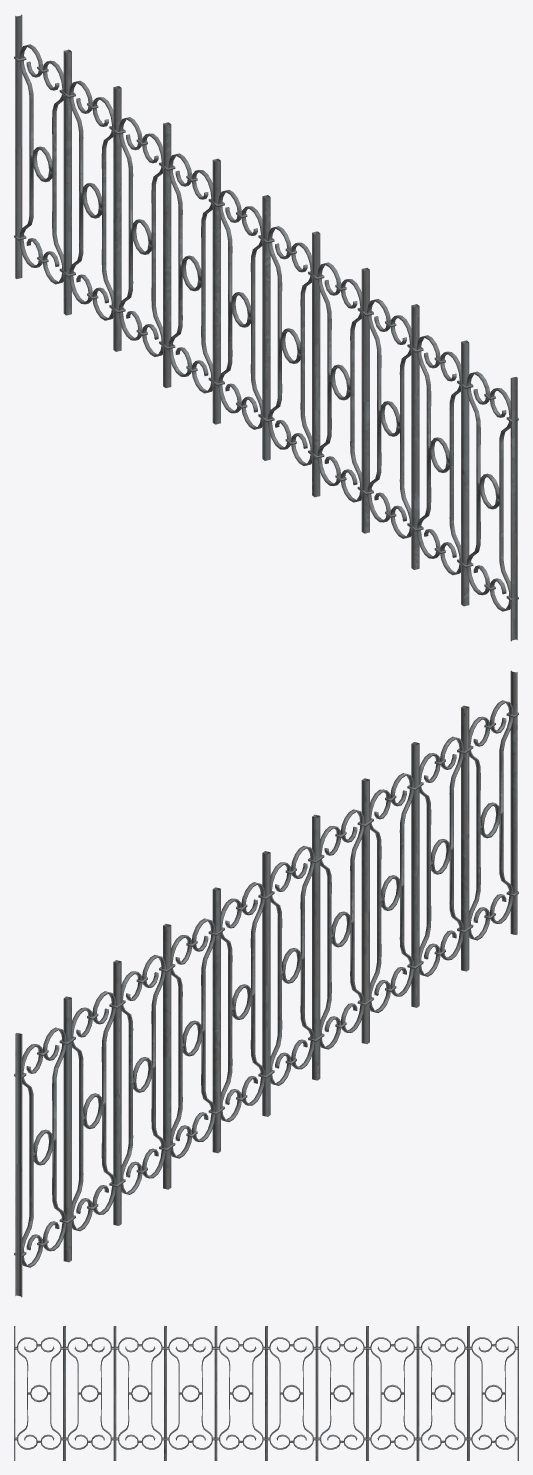
The model's file is Fence_F2 (4).fbx.
3 views of the same model, one above another, from view 1: azimuth 30°, elevation 25°; view 2: azimuth 150°, elevation 25°; view 3: azimuth 270°, elevation 25° (orthographic). The views are drawn at different scales.
Parts seen in each view (by area): view 1: Fence_F2 (4); view 2: Fence_F2 (4); view 3: Fence_F2 (4).
Part boxes in pixels (x1=…): Fence_F2 (4): x1=14, y1=14, x2=518, y2=641; Fence_F2 (4): x1=14, y1=670, x2=518, y2=1297; Fence_F2 (4): x1=14, y1=1326, x2=518, y2=1460.
Bounding box in the file's own units: 0.0408 × 4.23 × 1.24.
Materials: 1 (1 with a texture image).
